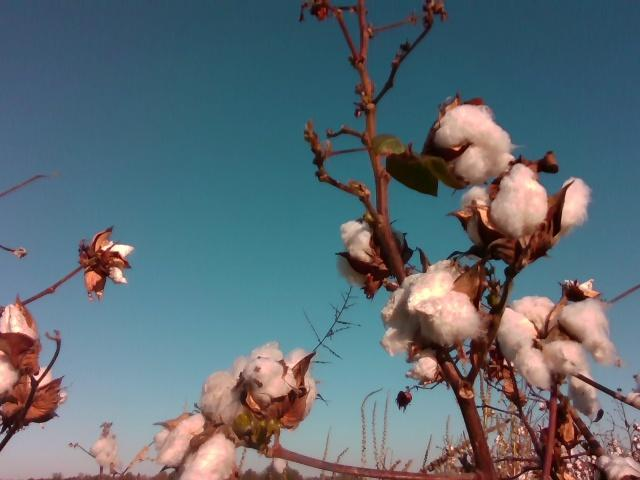cotton_ready: (499, 295, 619, 415), (463, 165, 592, 251), (202, 344, 318, 434), (381, 259, 486, 358), (431, 101, 519, 188), (0, 305, 66, 420), (155, 410, 239, 480), (337, 219, 394, 282), (95, 243, 134, 287), (595, 452, 639, 480), (408, 358, 438, 381)
